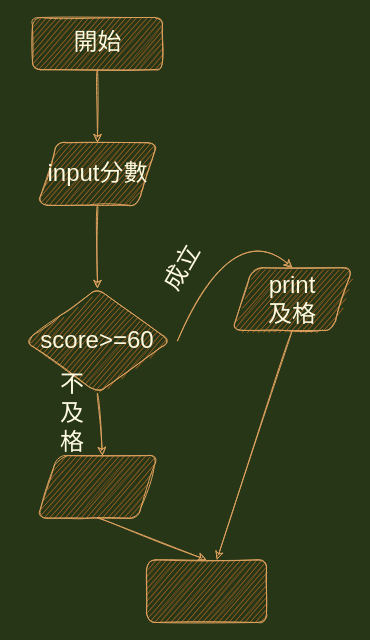
The diagram is 370 pixels wide and 640 high, and some of its shapes have lost their labels. The shapes that lost their labels are listed below. From the top down, each one's box as (x1, y1, x2, y2) in pixels, then its label:
(36, 455, 158, 518): print 不及格
(146, 559, 266, 622): 結束
